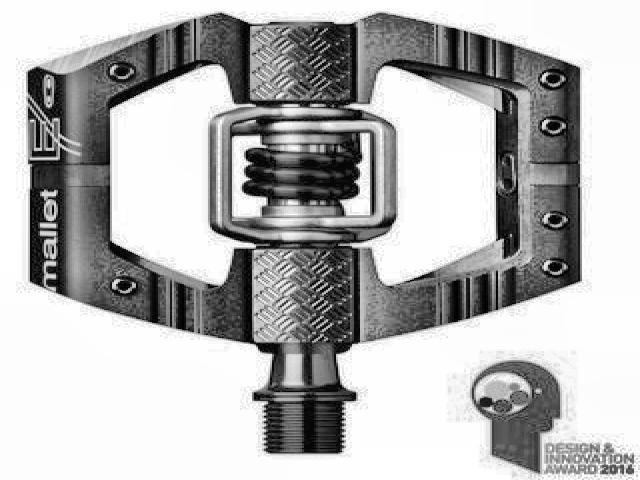pedal: (18, 9, 585, 457)
